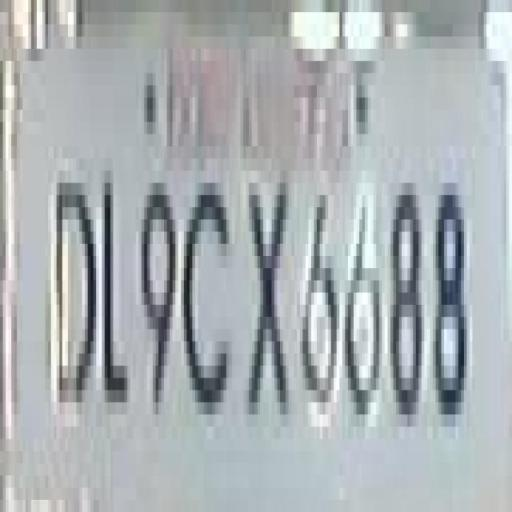number plate: (0, 24, 486, 512)
